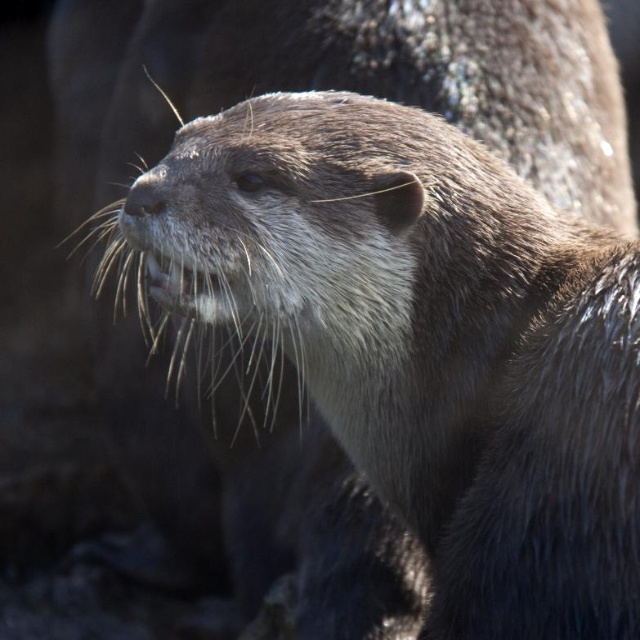Otter: (52, 66, 640, 640)
